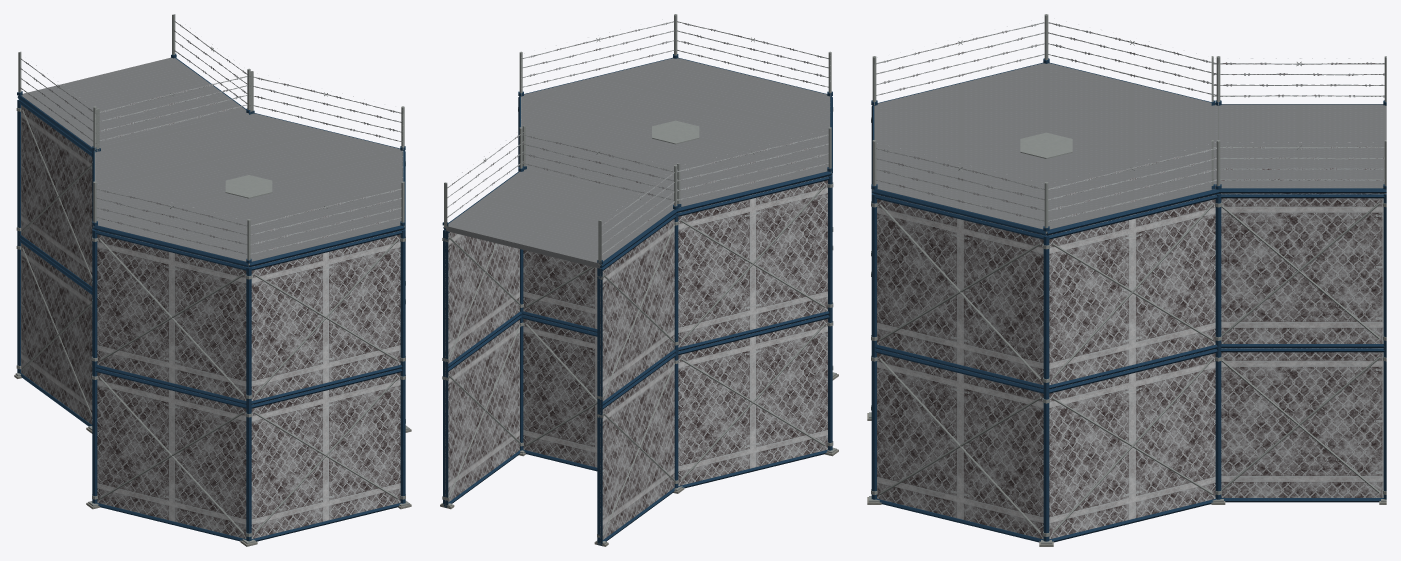
Rendered from terminal.glb.
The picture shows the model from 3 angles, left to right: view 1: azimuth 30°, elevation 25°; view 2: azimuth 150°, elevation 25°; view 3: azimuth 270°, elevation 25°; orthographic projection. The views are drawn at different scales.
Parts seen in each view (by area): view 1: terminal-lod0-base0, terminal-lod0-floor0, terminal-lod0-roof0, terminal-lod0-roof0-link-n, terminal-lod0-base0-link-n, terminal-lod0-floor0-link-n; view 2: terminal-lod0-roof0, terminal-lod0-base0, terminal-lod0-floor0, terminal-lod0-base0-link-n, terminal-lod0-floor0-link-n, terminal-lod0-roof0-link-n; view 3: terminal-lod0-base0, terminal-lod0-floor0, terminal-lod0-roof0, terminal-lod0-floor0-link-n, terminal-lod0-base0-link-n, terminal-lod0-roof0-link-n.
Part boxes in pixels (x1=…): terminal-lod0-base0: x1=86, y1=299, x2=411, y2=546; terminal-lod0-floor0: x1=92, y1=161, x2=405, y2=406; terminal-lod0-roof0: x1=92, y1=68, x2=405, y2=267; terminal-lod0-roof0-link-n: x1=17, y1=14, x2=254, y2=152; terminal-lod0-base0-link-n: x1=14, y1=238, x2=92, y2=431; terminal-lod0-floor0-link-n: x1=16, y1=99, x2=92, y2=290; terminal-lod0-roof0: x1=518, y1=14, x2=832, y2=212; terminal-lod0-base0: x1=519, y1=246, x2=838, y2=493; terminal-lod0-floor0: x1=518, y1=107, x2=833, y2=352; terminal-lod0-base0-link-n: x1=440, y1=315, x2=682, y2=546; terminal-lod0-floor0-link-n: x1=442, y1=214, x2=676, y2=407; terminal-lod0-roof0-link-n: x1=442, y1=125, x2=681, y2=268; terminal-lod0-base0: x1=867, y1=271, x2=1225, y2=546; terminal-lod0-floor0: x1=871, y1=117, x2=1221, y2=391; terminal-lod0-roof0: x1=871, y1=14, x2=1221, y2=235; terminal-lod0-floor0-link-n: x1=1220, y1=193, x2=1386, y2=349; terminal-lod0-base0-link-n: x1=1212, y1=348, x2=1386, y2=504; terminal-lod0-roof0-link-n: x1=1211, y1=56, x2=1386, y2=193.
Size of what is drawn, in the model's own units: 43.53 by 42.2 by 54.95.
6 materials, 6 textured.
